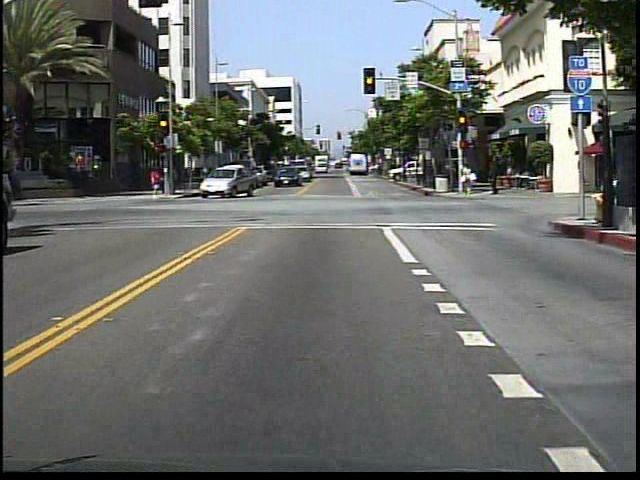person: (457, 157, 477, 198), (487, 160, 501, 199), (151, 166, 167, 197)
